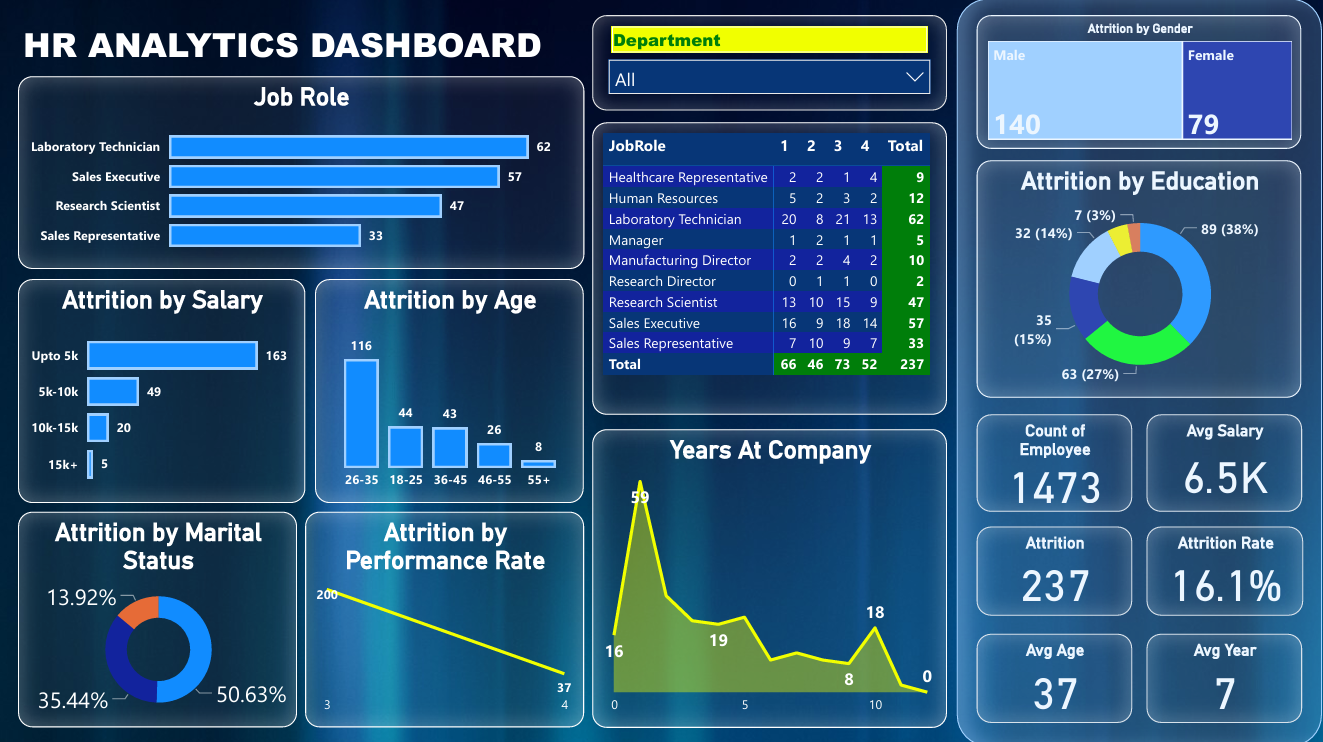

Layout of this report page (visuals, bound fields, positions):
{"tool":"powerbi","page":{"name":"HR Analytics Dashboard","canvas":[1280,720],"ordinal":0},"visuals":[{"type":"card","title":"Count of Employee","fields":{"Values":["CountNonNull(HR_Analytics Data.EmpID)"]},"box":[944.8,400.8,149.5,93.8],"z":0},{"type":"card","title":"Attrition","fields":{"Values":["Sum(HR_Analytics Data.Attrition_Count)"]},"box":[944.8,509,149.5,85.9],"z":1000},{"type":"card","title":"Attrition Rate","fields":{"Values":["HR_Analytics Data.Attrition_Rate"]},"box":[1108.7,509,151.1,85.9],"z":2000},{"type":"card","title":"Avg Age","fields":{"Values":["Avg(HR_Analytics Data.Age)"]},"box":[944.8,612.4,149.5,85.9],"z":3000},{"type":"card","title":"Avg Salary","fields":{"Values":["Avg(HR_Analytics Data.MonthlyIncome)"]},"box":[1108.7,400.8,149.5,93.8],"z":4000},{"type":"card","title":"Avg Year","fields":{"Values":["Avg(HR_Analytics Data.YearsAtCompany)"]},"box":[1108.7,612.4,149.5,85.9],"z":5000},{"type":"donutChart","title":"Attrition by Education","fields":{"Category":["HR_Analytics Data.EducationField"],"Y":["Sum(HR_Analytics Data.Attrition_Count)"]},"box":[944.8,155.9,313.4,229],"z":6000},{"type":"columnChart","title":"Attrition by Age","fields":{"Category":["HR_Analytics Data.AgeGroup"],"Y":["Sum(HR_Analytics Data.Attrition_Count)"]},"box":[307,270.4,259.3,216.3],"z":7000},{"type":"pivotTable","fields":{"Rows":["HR_Analytics Data.JobRole"],"Columns":["HR_Analytics Data.JobSatisfaction"],"Values":["Sum(HR_Analytics Data.Attrition_Count)"]},"box":[574.2,119.3,342,281.5],"z":8000},{"type":"barChart","title":"Attrition by Salary","fields":{"Category":["HR_Analytics Data.SalarySlab"],"Y":["Sum(HR_Analytics Data.Attrition_Count)"]},"box":[20.7,270.4,276.8,216.3],"z":9000},{"type":"barChart","title":"Job Role","fields":{"Category":["HR_Analytics Data.JobRole"],"Y":["Sum(HR_Analytics Data.Attrition_Count)"]},"box":[20.7,74.8,545.6,186.1],"z":10000},{"type":"areaChart","title":"Years At Company","fields":{"Category":["HR_Analytics Data.YearsAtCompany"],"Y":["Sum(HR_Analytics Data.Attrition_Count)"]},"box":[574.2,415.1,342,287.9],"z":11000},{"type":"treemap","title":"Attrition by Gender","fields":{"Group":["HR_Analytics Data.Gender"],"Values":["Sum(HR_Analytics Data.Attrition_Count)"]},"box":[944.8,15.9,313.4,128.8],"z":12000},{"type":"slicer","fields":{"Values":["HR_Analytics Data.Department"]},"box":[574.2,15.9,342,92.3],"z":13000},{"type":"textbox","box":[20.7,15.9,536,68.4],"z":14000},{"type":"shape","box":[925.7,0,351.5,720.5],"z":14001},{"type":"donutChart","title":"Attrition by Marital Status","fields":{"Category":["HR_Analytics Data.MaritalStatus"],"Y":["Sum(HR_Analytics Data.Attrition_Count)"]},"box":[20.7,494.7,268.8,208.4],"z":14002},{"type":"lineChart","title":"Attrition by Performance Rate","fields":{"Category":["HR_Analytics Data.PerformanceRating"],"Y":["Sum(HR_Analytics Data.Attrition_Count)"]},"box":[297.4,494.7,268.8,208.4],"z":14003}]}

Visuals, with their boxes in screenshot pixels (x1, y1, x2, y2), scaled from the page's 1280x720 canvas onto the 1323x742 screenshot:
"Count of Employee" card: locate(977, 413, 1131, 510)
"Attrition" card: locate(977, 525, 1131, 613)
"Attrition Rate" card: locate(1146, 525, 1302, 613)
"Avg Age" card: locate(977, 631, 1131, 720)
"Avg Salary" card: locate(1146, 413, 1300, 510)
"Avg Year" card: locate(1146, 631, 1300, 720)
"Attrition by Education" donutChart: locate(977, 161, 1300, 397)
"Attrition by Age" columnChart: locate(317, 279, 585, 502)
pivotTable - HR_Analytics Data.JobRole x HR_Analytics Data.JobSatisfaction: locate(593, 123, 947, 413)
"Attrition by Salary" barChart: locate(21, 279, 307, 502)
"Job Role" barChart: locate(21, 77, 585, 269)
"Years At Company" areaChart: locate(593, 428, 947, 724)
"Attrition by Gender" treemap: locate(977, 16, 1300, 149)
slicer - HR_Analytics Data.Department: locate(593, 16, 947, 112)
textbox: locate(21, 16, 575, 87)
shape: locate(957, 0, 1320, 741)
"Attrition by Marital Status" donutChart: locate(21, 510, 299, 725)
"Attrition by Performance Rate" lineChart: locate(307, 510, 585, 725)
